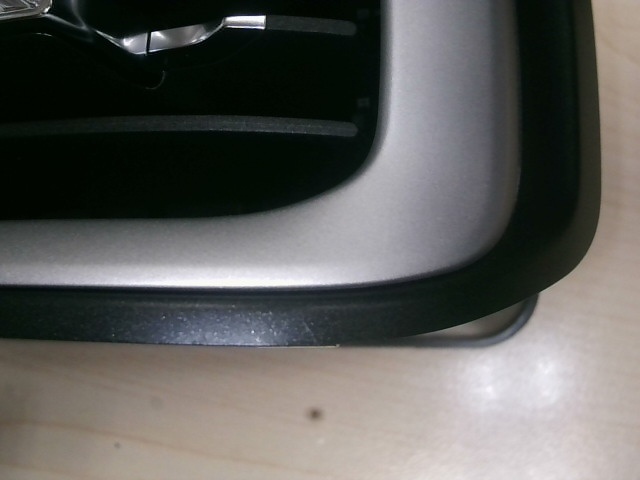NG: (270, 310, 341, 357)
